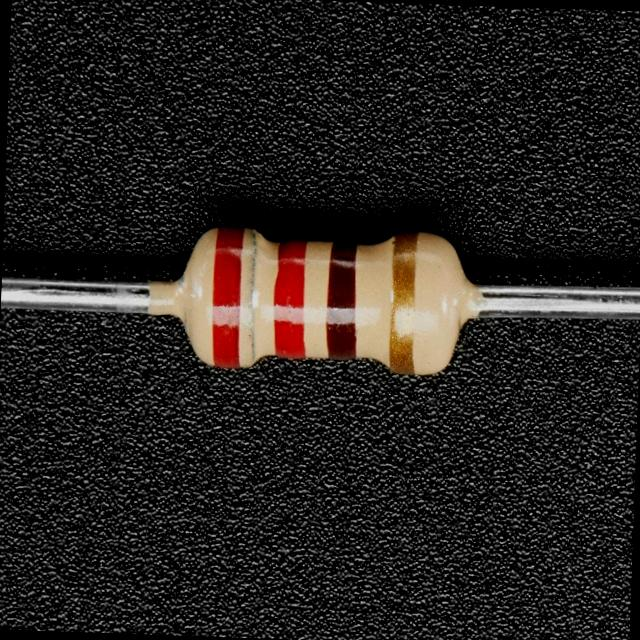Resistor: (180, 227, 477, 374)
brown: (326, 241, 357, 362)
gold: (390, 230, 419, 375)
red: (211, 224, 243, 370), (274, 235, 305, 358)
